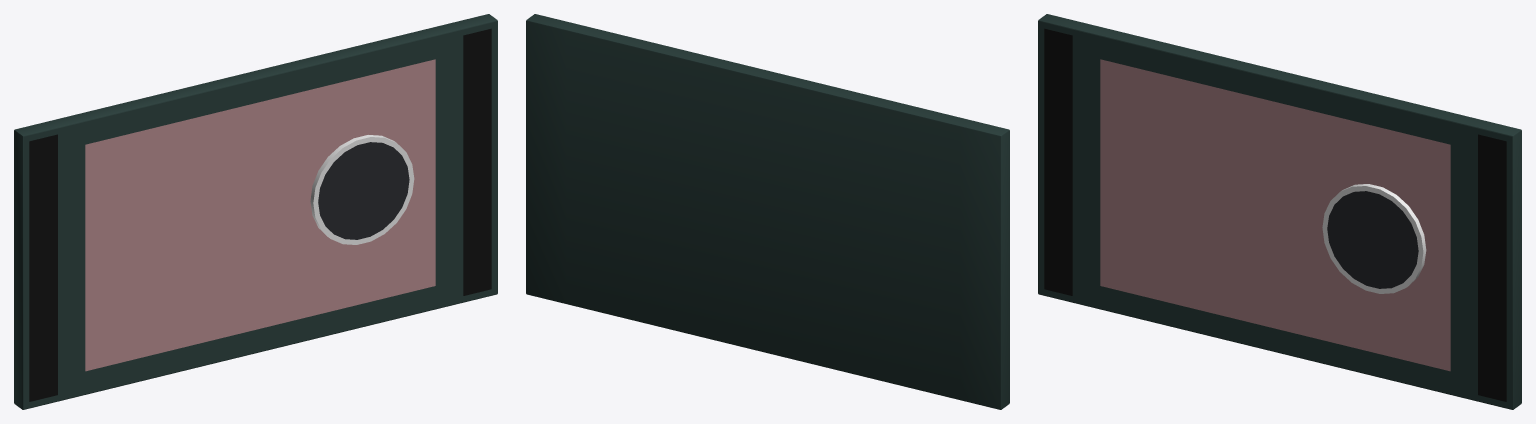
The model's file is rectangle au dessus de porte.fbx.
3 renders of one model, left to right at view 1: azimuth 30°, elevation 25°; view 2: azimuth 150°, elevation 25°; view 3: azimuth 330°, elevation 25°, orthographic.
Parts seen in each view (by area): view 1: Box023; view 2: Box023; view 3: Box023.
Part boxes in pixels (x1=…): Box023: x1=14, y1=14, x2=497, y2=409; Box023: x1=526, y1=14, x2=1009, y2=409; Box023: x1=1038, y1=14, x2=1521, y2=409.
Bounding box in the file's own units: 483 × 266 × 21.12.
